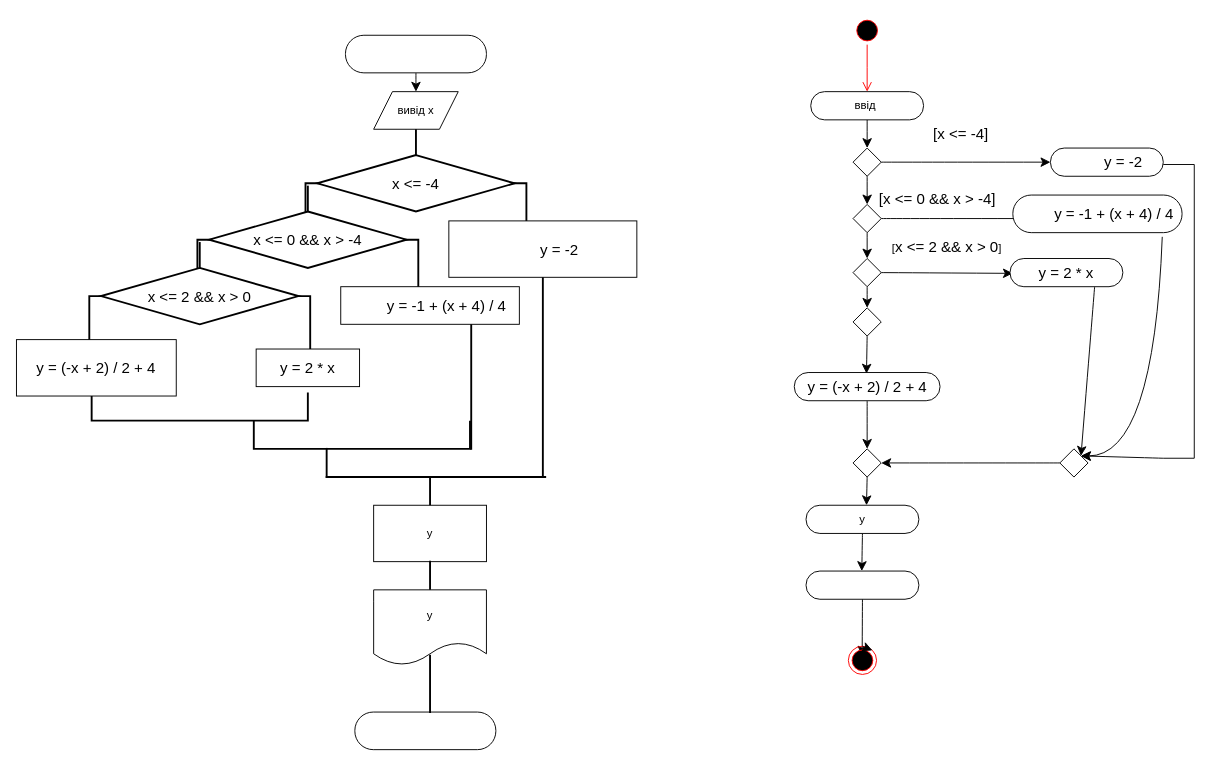
This 1211x766 diagram has some shape labels left out. Here are the shapes that lost their labels. From the top down, the centre of each, then its label:
[415,53]: початок
[862,584]: ввід у
[425,730]: кінець
